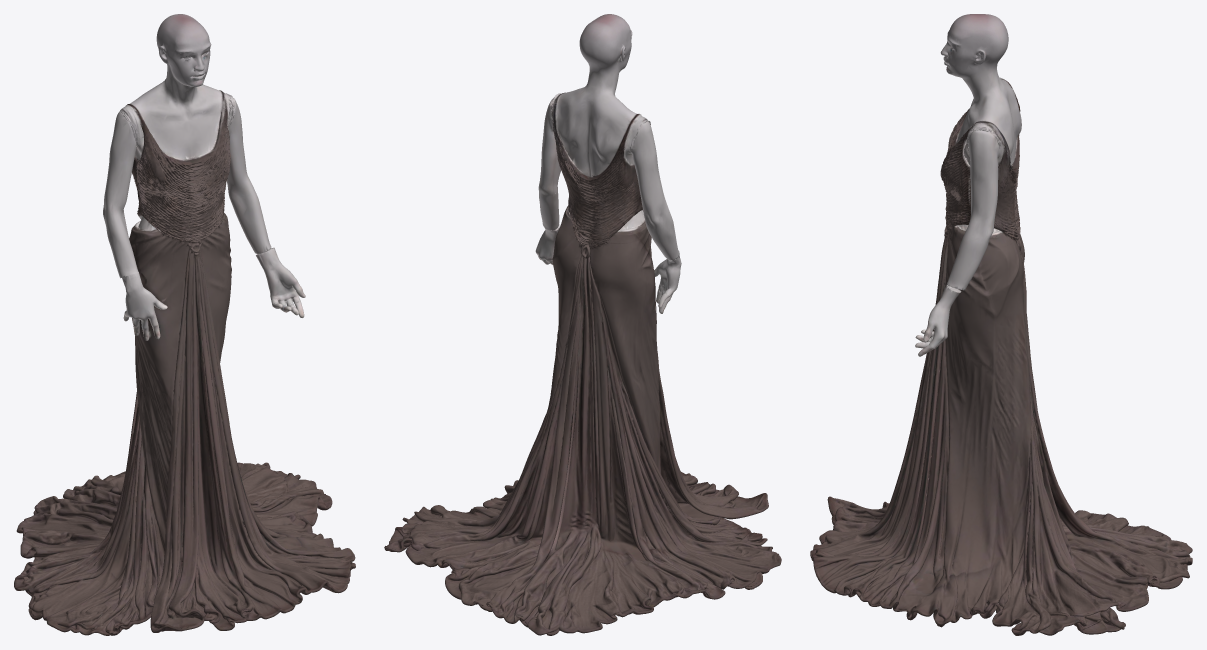
3 views of the same model, side by side, from view 1: azimuth 30°, elevation 25°; view 2: azimuth 150°, elevation 25°; view 3: azimuth 270°, elevation 25° (orthographic). The views are drawn at different scales.
Visible parts, largest first — view 1: tripo_node_fdb3395b-dab0-4d2c-bbab-58496c1349cf; view 2: tripo_node_fdb3395b-dab0-4d2c-bbab-58496c1349cf; view 3: tripo_node_fdb3395b-dab0-4d2c-bbab-58496c1349cf.
Boxes of the visible parts, x1,y1,x2,y2 form: tripo_node_fdb3395b-dab0-4d2c-bbab-58496c1349cf: [14, 14, 355, 635]; tripo_node_fdb3395b-dab0-4d2c-bbab-58496c1349cf: [384, 14, 781, 635]; tripo_node_fdb3395b-dab0-4d2c-bbab-58496c1349cf: [810, 14, 1192, 635].
Size of the model in its own units: 0.6057 by 0.9805 by 0.6109.
1 material, 1 textured.
